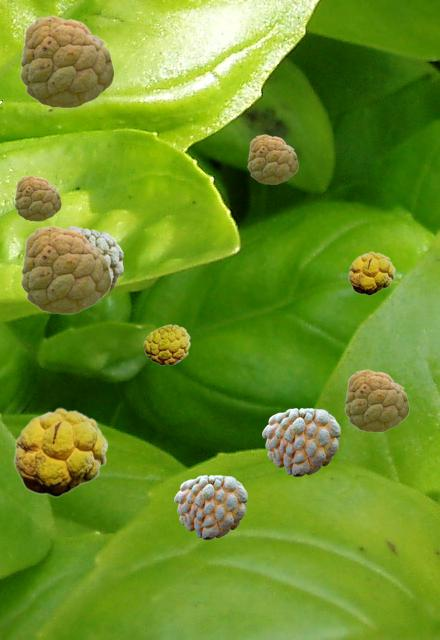atis: (19, 15, 113, 107), (13, 407, 107, 496), (20, 225, 110, 313), (262, 408, 339, 475), (174, 475, 246, 538), (68, 226, 122, 300), (344, 369, 408, 431), (247, 134, 297, 183), (14, 175, 60, 220), (348, 251, 394, 294), (143, 324, 189, 364)
